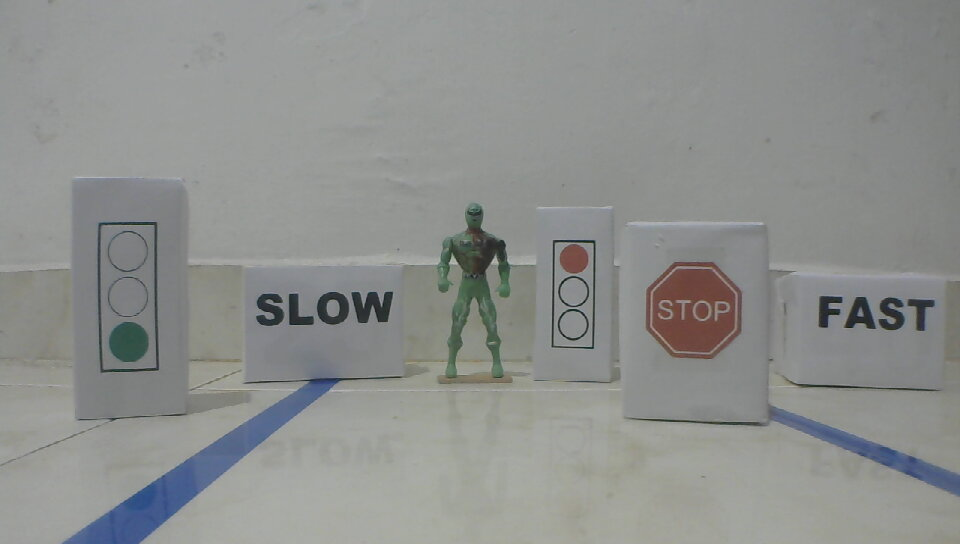Fast: (817, 294, 936, 334)
Green Traffic Light: (95, 219, 163, 373)
Person: (433, 201, 517, 384)
Red Traffic Light: (550, 237, 599, 353)
Slow: (252, 289, 396, 328)
Stop Sign: (644, 257, 746, 362)
